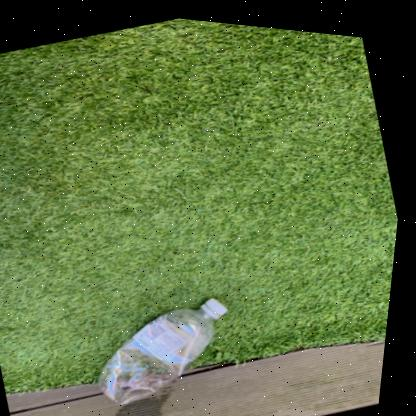Plastic: (106, 292, 233, 401)
